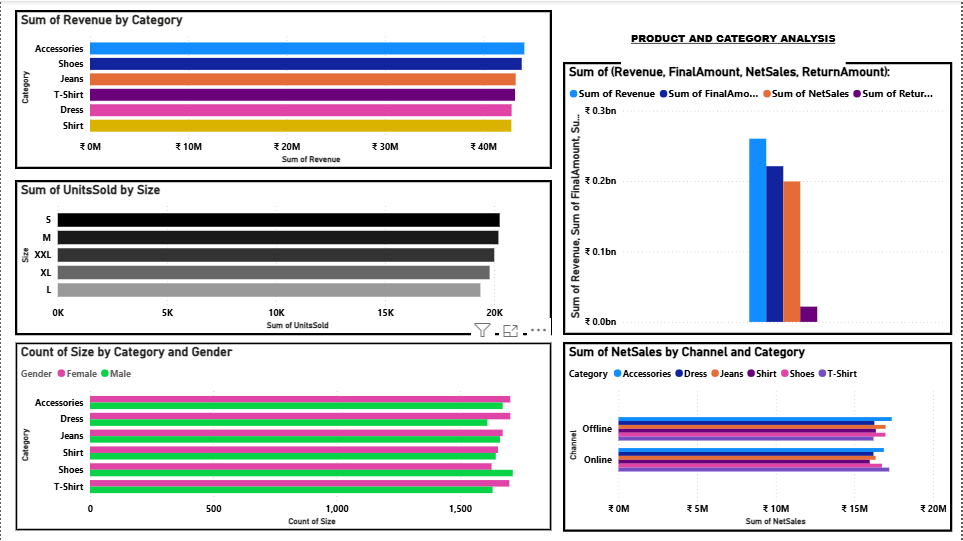

Layout of this report page (visuals, bound fields, positions):
{"tool":"powerbi","page":{"name":"product and category analysis","canvas":[1280,720],"ordinal":2},"visuals":[{"type":"clusteredBarChart","fields":{"Category":["clearnowsales.Category"],"Y":["Sum(clearnowsales.Revenue)"]},"box":[18.7,12,716,212],"z":0},{"type":"barChart","fields":{"Category":["clearnowsales.Size"],"Y":["Sum(clearnowsales.UnitsSold)"]},"box":[18.7,238.7,716,206.7],"z":1000},{"type":"clusteredBarChart","fields":{"Category":["clearnowsales.Category"],"Series":["clearnowsales.Gender"],"Y":["CountNonNull(clearnowsales.Size)"]},"box":[18.7,454.7,716,252],"z":2000},{"type":"clusteredColumnChart","title":"Sum of (Revenue, FinalAmount, NetSales, ReturnAmount):","fields":{"Y":["Sum(clearnowsales.Revenue)","Sum(clearnowsales.FinalAmount)","Sum(clearnowsales.NetSales)","Sum(clearnowsales.ReturnAmount)"]},"box":[749.2,81.3,519.4,363.9],"z":3000},{"type":"clusteredBarChart","fields":{"Category":["clearnowsales.Channel"],"Series":["clearnowsales.Category"],"Y":["Sum(clearnowsales.NetSales)"]},"box":[749.2,455.2,519.4,252.6],"z":4000},{"type":"shape","box":[826.2,11.4,299.7,75.6],"z":5000}]}

Visuals, with their boxes in screenshot pixels (x1, y1, x2, y2), scaled from the page's 1280x720 canvas onto the 963x541 screenshot:
clusteredBarChart - clearnowsales.Category x Sum(clearnowsales.Revenue): rect(14, 9, 553, 168)
barChart - clearnowsales.Size x Sum(clearnowsales.UnitsSold): rect(14, 179, 553, 335)
clusteredBarChart - clearnowsales.Category x clearnowsales.Gender: rect(14, 342, 553, 531)
"Sum of (Revenue, FinalAmount, NetSales, ReturnAmount):" clusteredColumnChart: rect(564, 61, 954, 335)
clusteredBarChart - clearnowsales.Channel x clearnowsales.Category: rect(564, 342, 954, 532)
shape: rect(622, 9, 847, 65)
